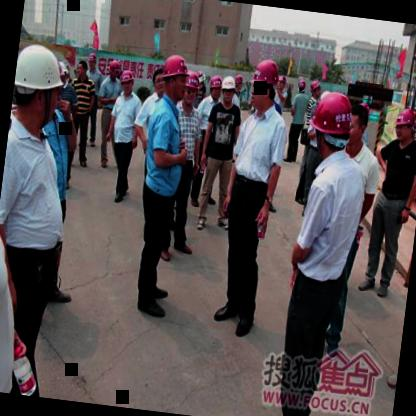head: (343, 100, 370, 152), (150, 66, 166, 96), (70, 57, 90, 79)
helmet: (9, 36, 70, 136), (308, 90, 354, 164), (247, 56, 282, 113), (157, 54, 191, 101), (391, 103, 416, 146), (116, 64, 139, 98), (183, 67, 201, 105), (218, 72, 238, 106), (205, 72, 223, 102), (104, 54, 122, 82), (306, 75, 323, 100), (84, 50, 102, 72)
